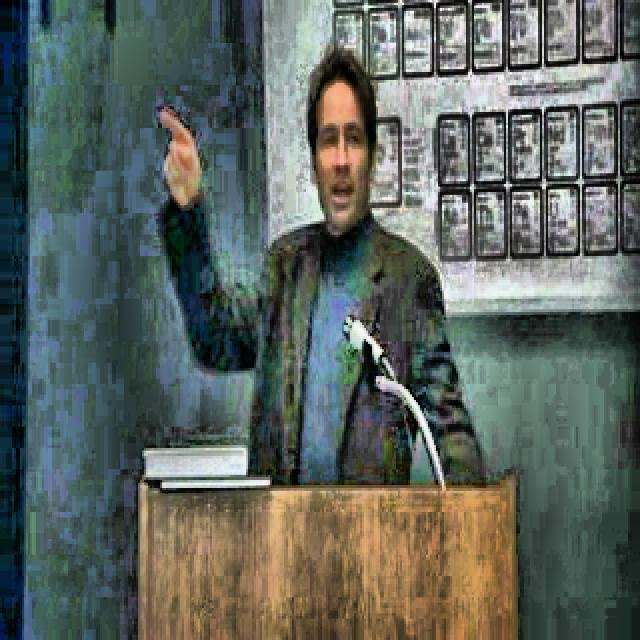T: (135, 30, 501, 515)
